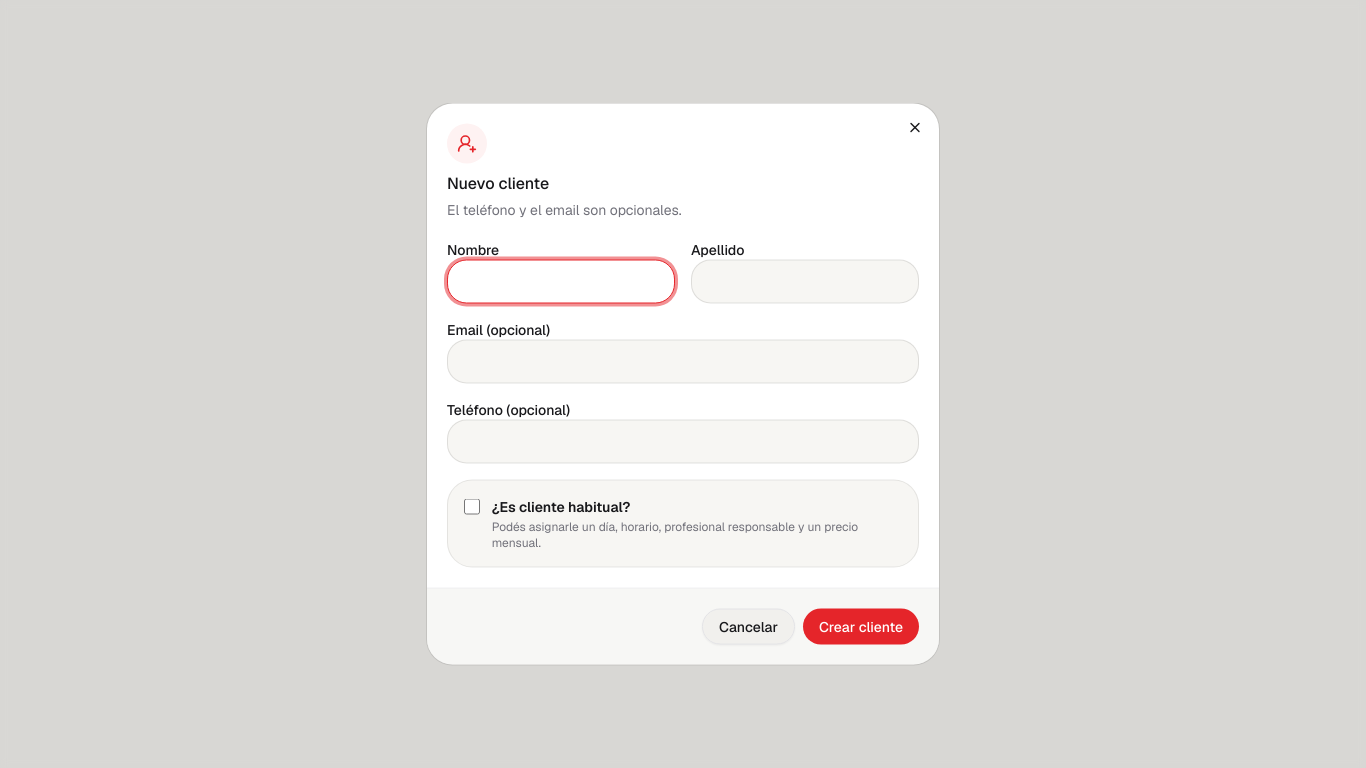
Test case: keeps optional email and draft state when async creation fails
The image size is (1366, 768).
In the field labelled "Nombre": (561, 282) [447,260,675,304], type "Ana"
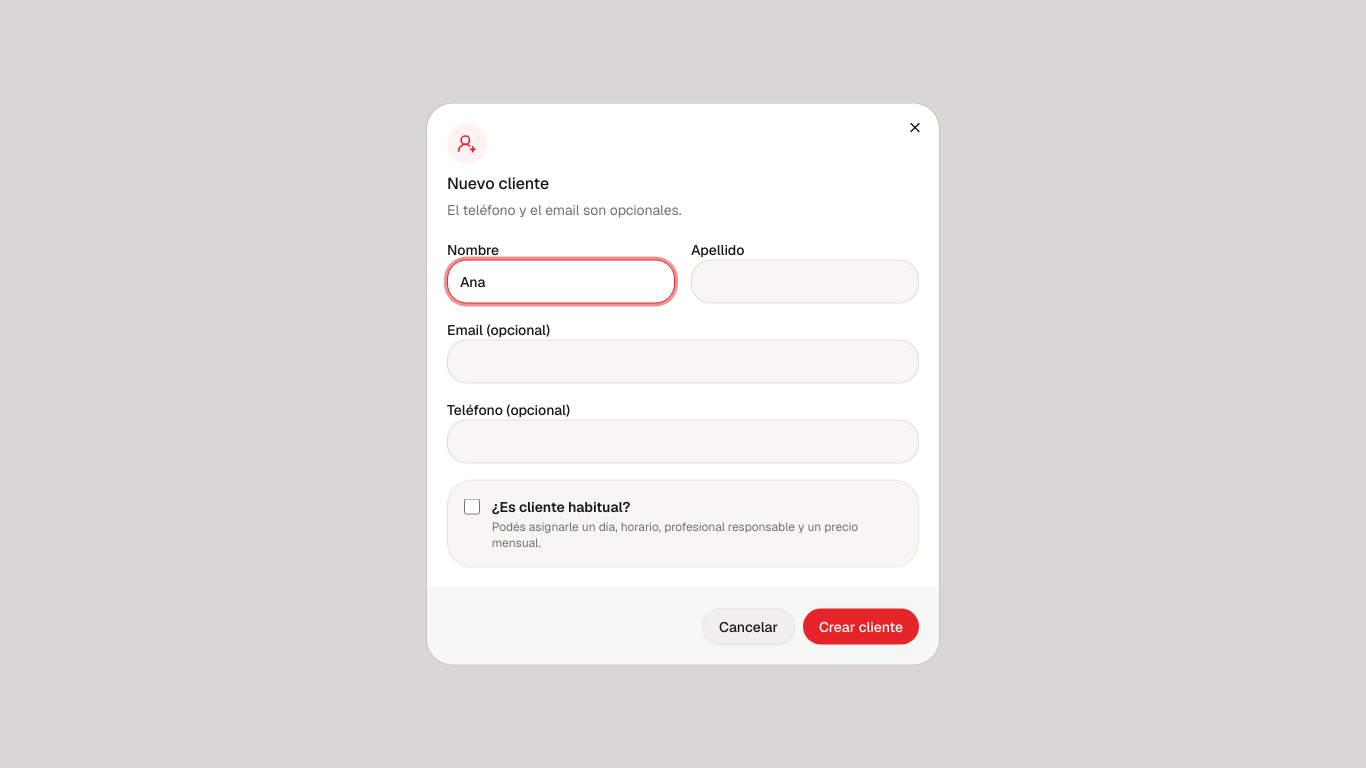
In the field labelled "Apellido": (805, 282) [691,260,919,304], type "Pérez"
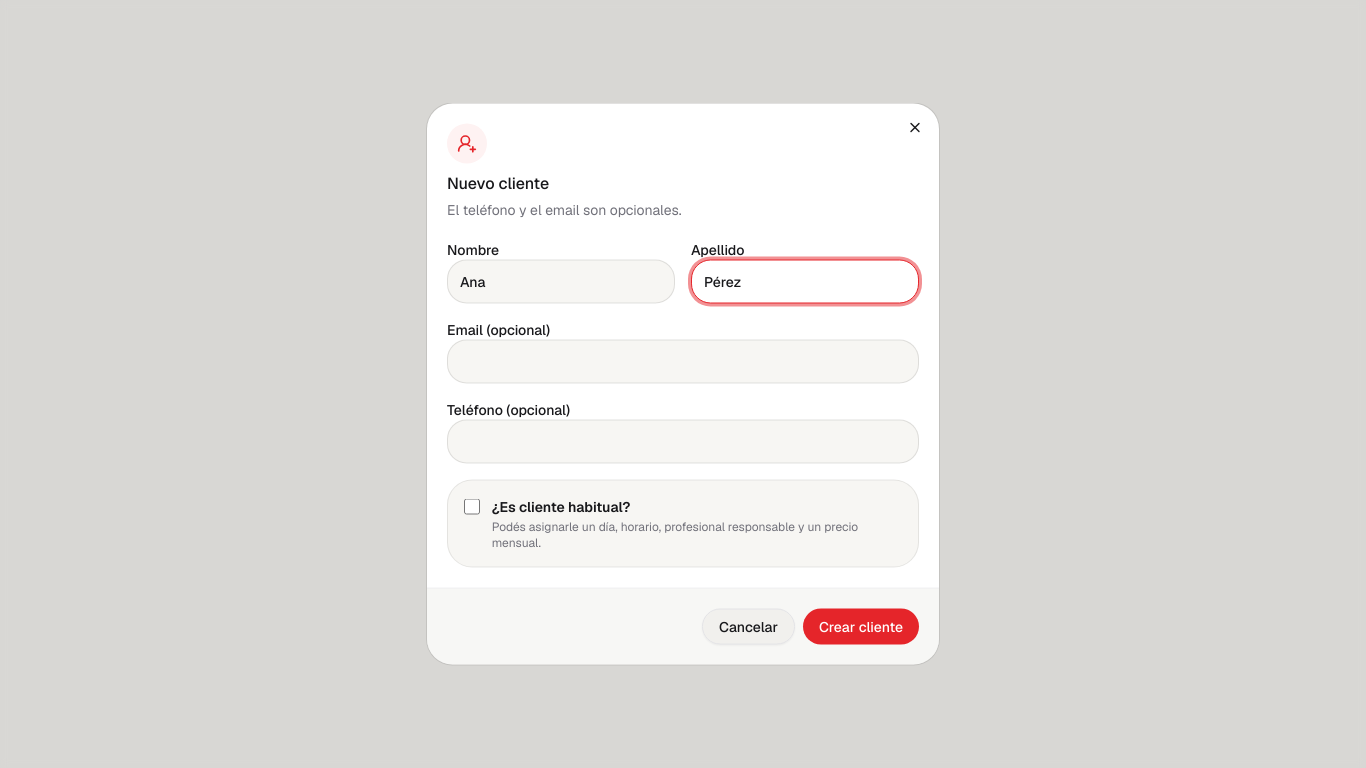
In the field labelled "Teléfono (opcional)": (683, 442) [447,420,919,464], type "3515550101"
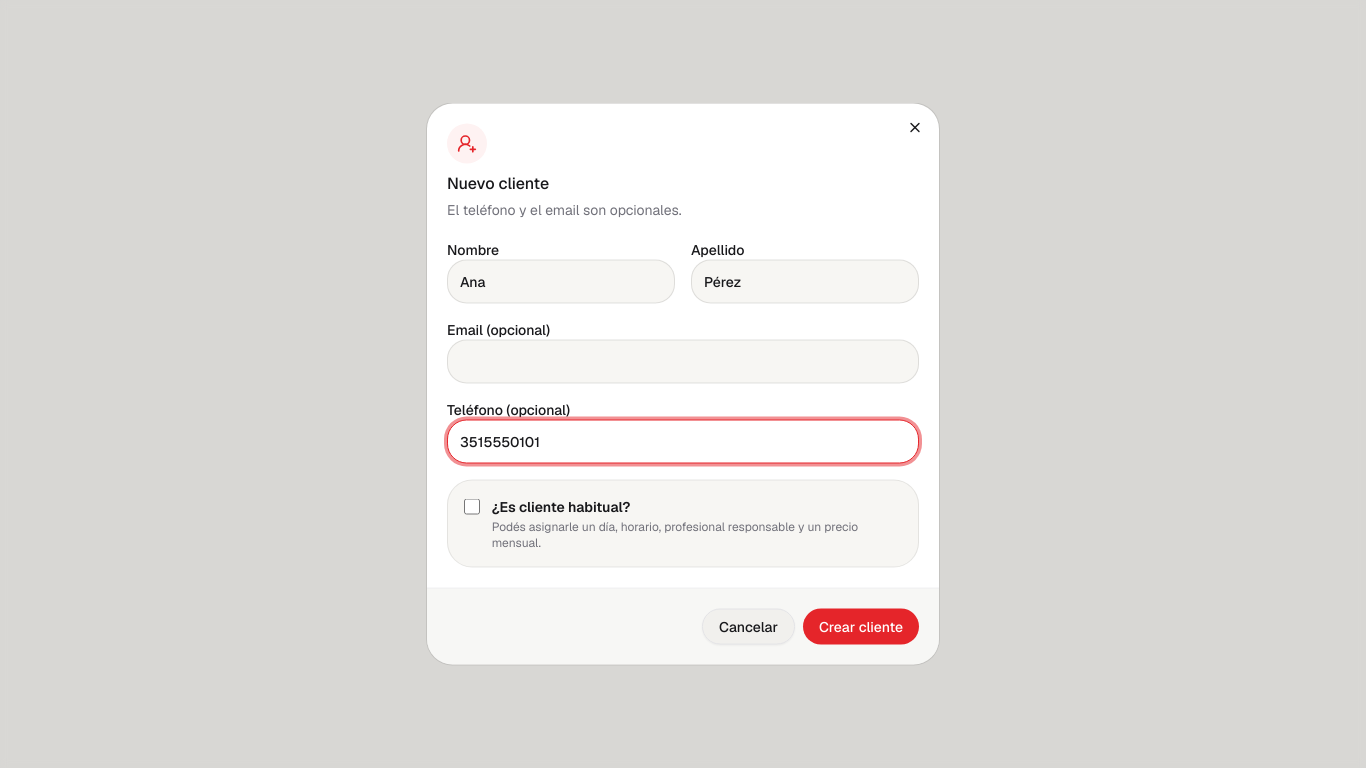
Click the button "Crear cliente": (861, 626) [803,608,919,644]
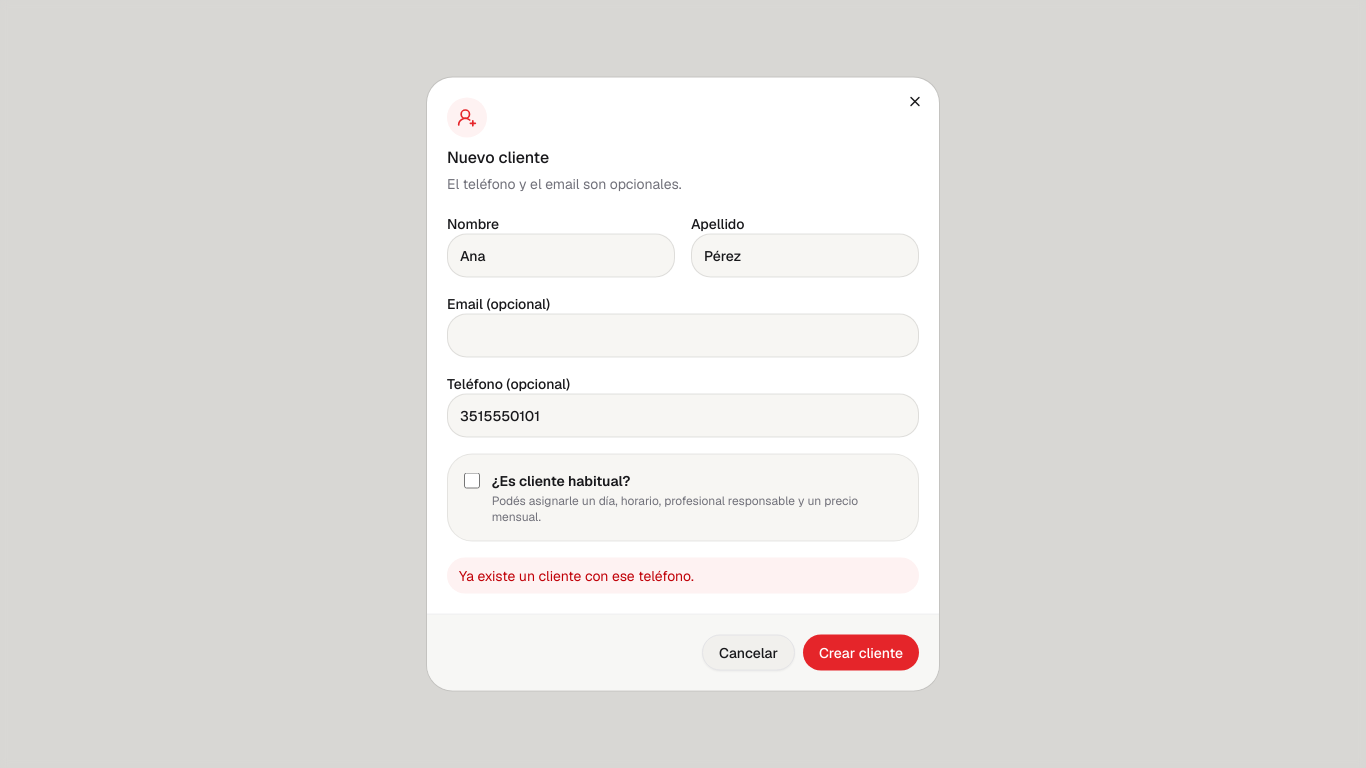
Expected: the message reads "Ya existe un cliente con ese teléfono.", [459,566,694,584]
